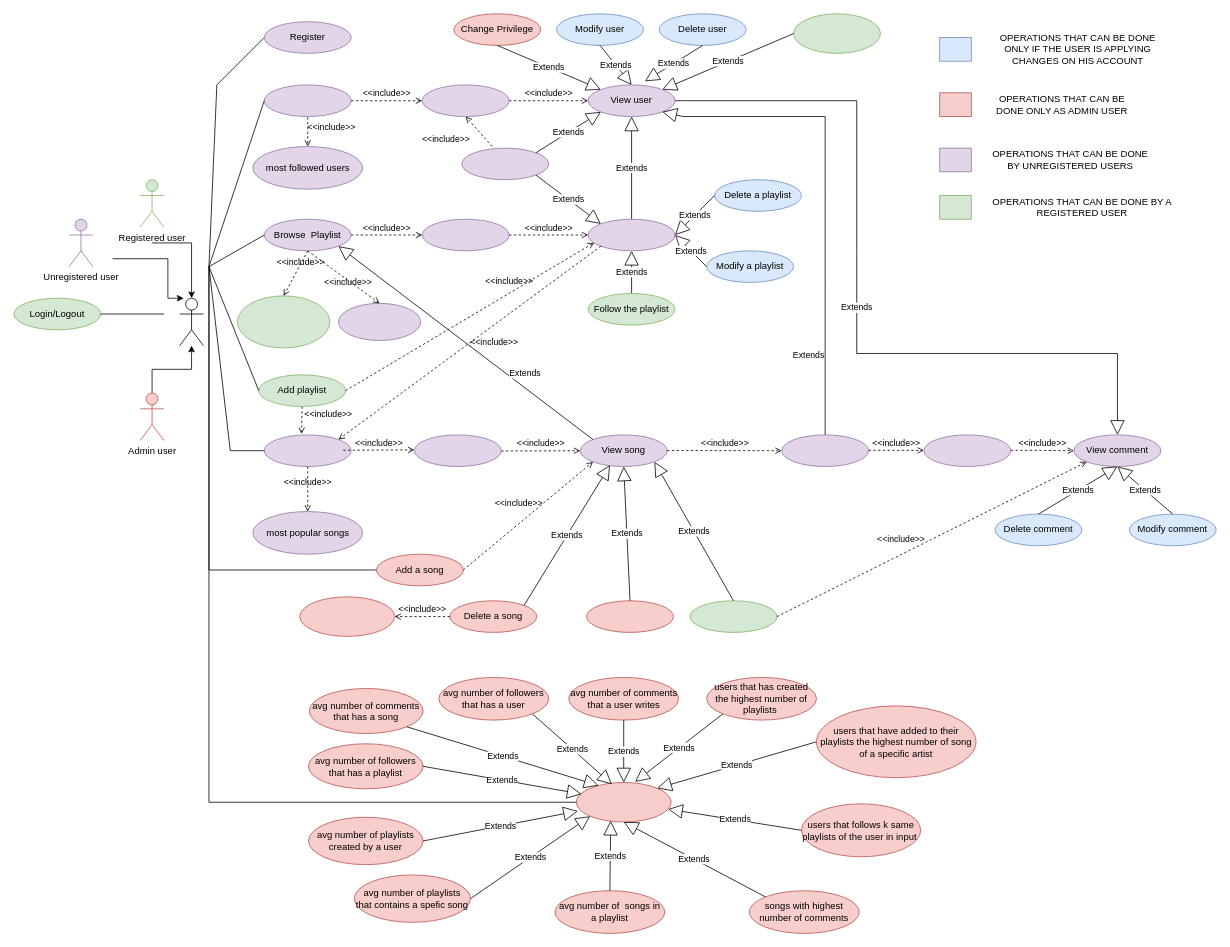
This 1230x947 diagram has some shape labels left out. The shapes that lost their labels are listed below. From the top down, each one's centre as x and y in pixels, then its label:
the point at 836,33: Follow/Unfollow user
the point at 307,100: Browse User
the point at 465,100: Find User
the point at 505,163: Browse Follower
the point at 465,234: Find Playlist
the point at 631,234: View playlist
the point at 191,321: User
the point at 283,321: Playlists followed by a user that the user follows
the point at 379,321: most followed playlists
the point at 307,450: Browse songs
the point at 457,450: Find song
the point at 825,450: Browse comments
the point at 967,450: Find comment
the point at 347,616: Remove the song from playlists
the point at 629,616: Modify a song
the point at 733,616: Add a comment
the point at 623,802: Extract analytics
